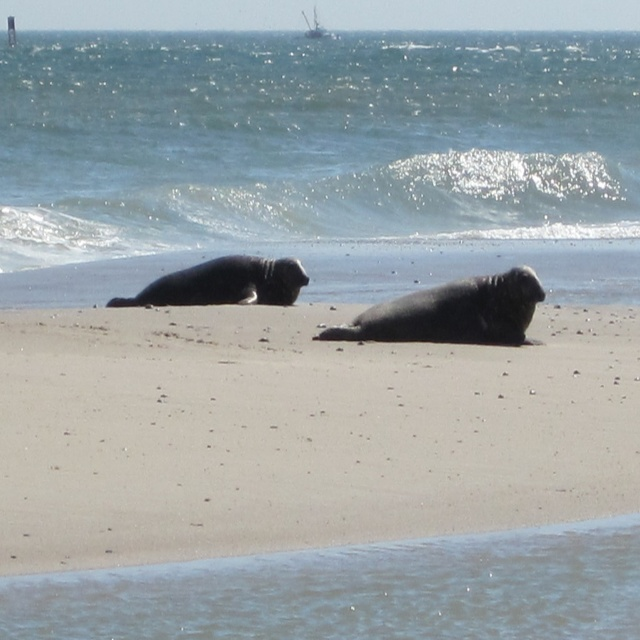Harbor seal: (312, 267, 545, 349), (106, 256, 309, 308)
